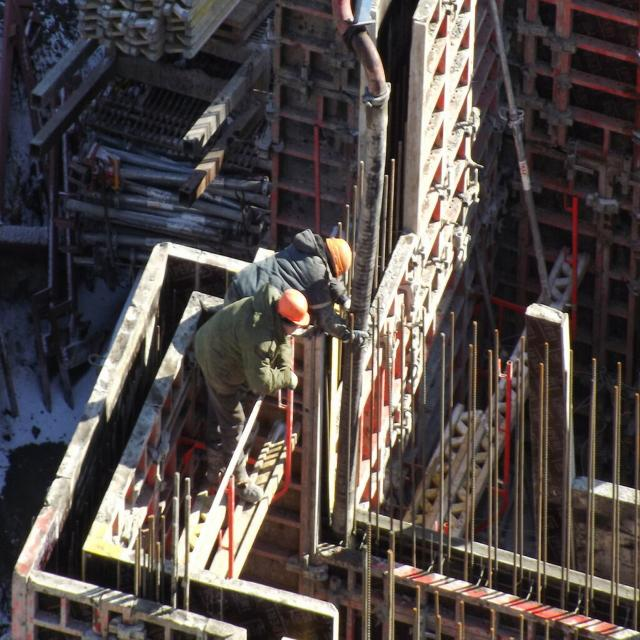Helmet: (276, 289, 313, 333), (328, 237, 356, 279)
NoJacket: (208, 298, 280, 376), (248, 242, 330, 289)
